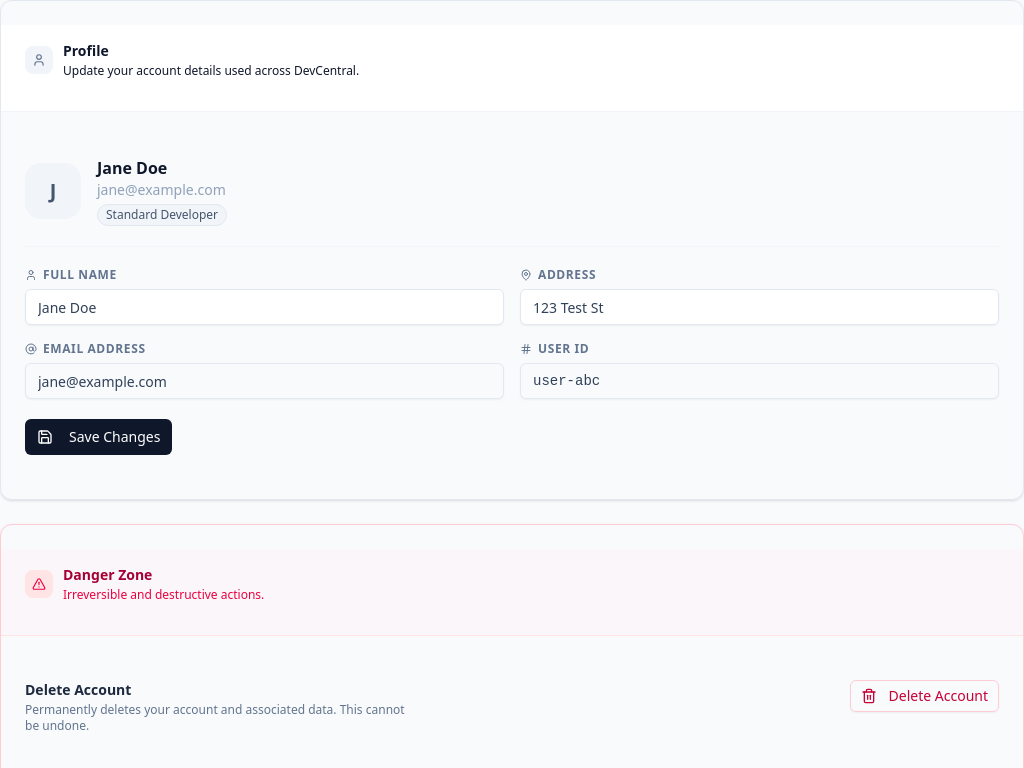
it: GeneralSection › keeps the confirm Delete Account button disabled until 'DELETE' is typed
The width and height of the screenshot is (1024, 768).
Click the button "Delete Account": (924, 696) [850,680,999,712]
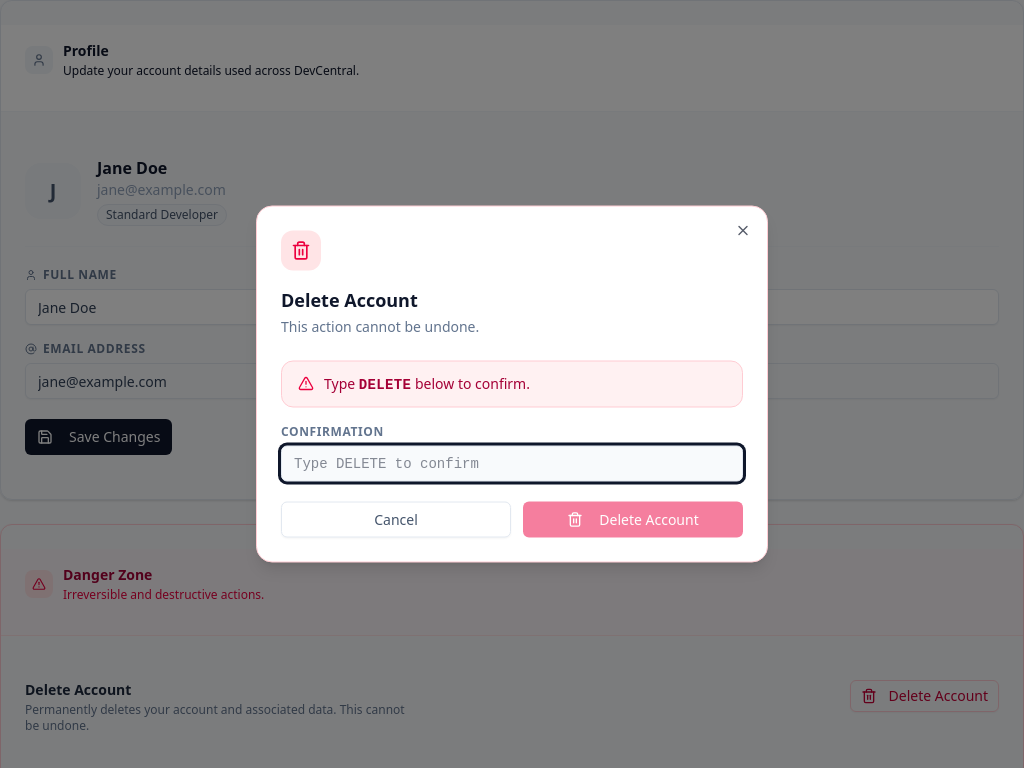
Expected: the field with placeholder "Type DELETE to confirm" is shown
Expected: the button "Delete Account" is disabled, [523,502,743,538]
In the field with placeholder "Type DELETE to confirm": (512, 464) [281,446,743,482], type "DELETE"
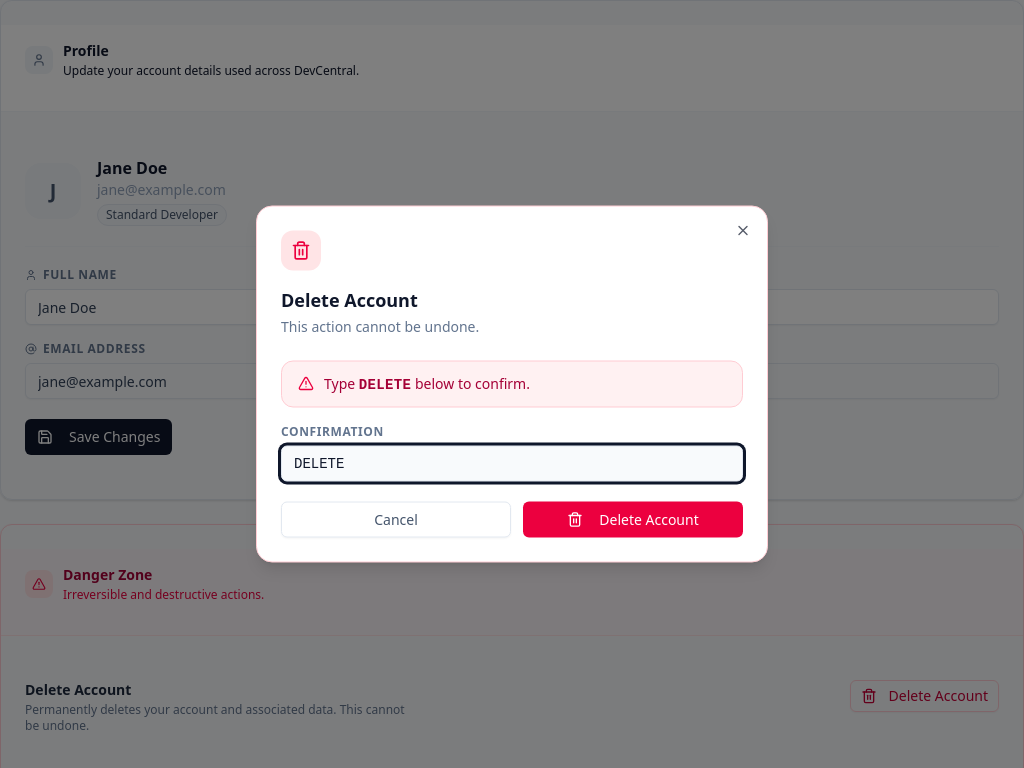
Expected: the button "Delete Account" is enabled, [523,502,743,538]
